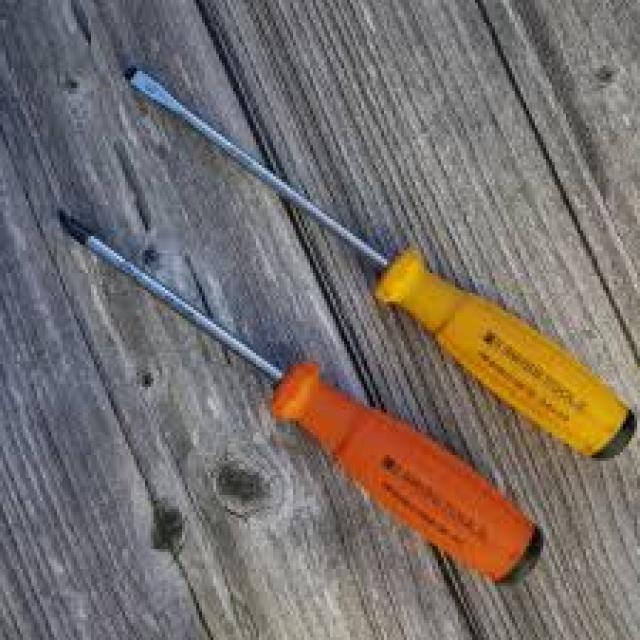screwdriver: (122, 64, 637, 465), (57, 205, 552, 594)
